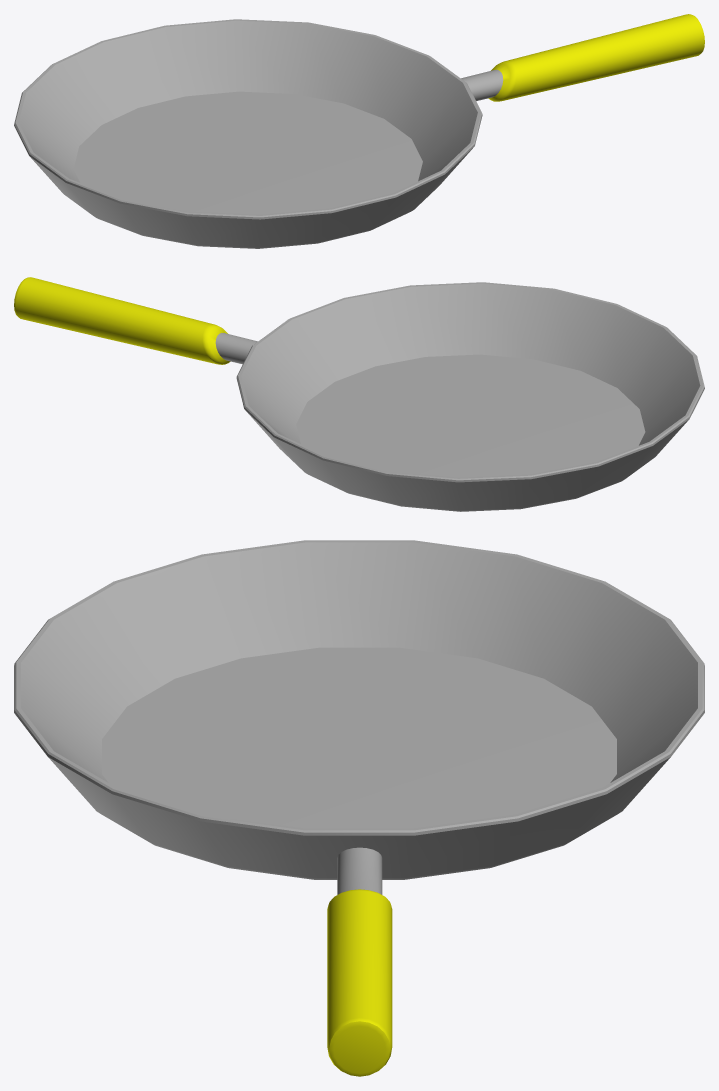
Rendered from Pan.fbx.
The picture shows the model from 3 angles, top to bottom: view 1: azimuth 30°, elevation 25°; view 2: azimuth 150°, elevation 25°; view 3: azimuth 270°, elevation 25°; orthographic projection. The views are drawn at different scales.
Parts seen in each view (by area): view 1: Pan; view 2: Pan; view 3: Pan.
Part boxes in pixels (x1,y1,x2,y2): Pan: [14, 14, 704, 248]; Pan: [14, 277, 704, 511]; Pan: [14, 540, 704, 1076].
Bounding box in the file's own units: 321 × 23.4 × 199.
